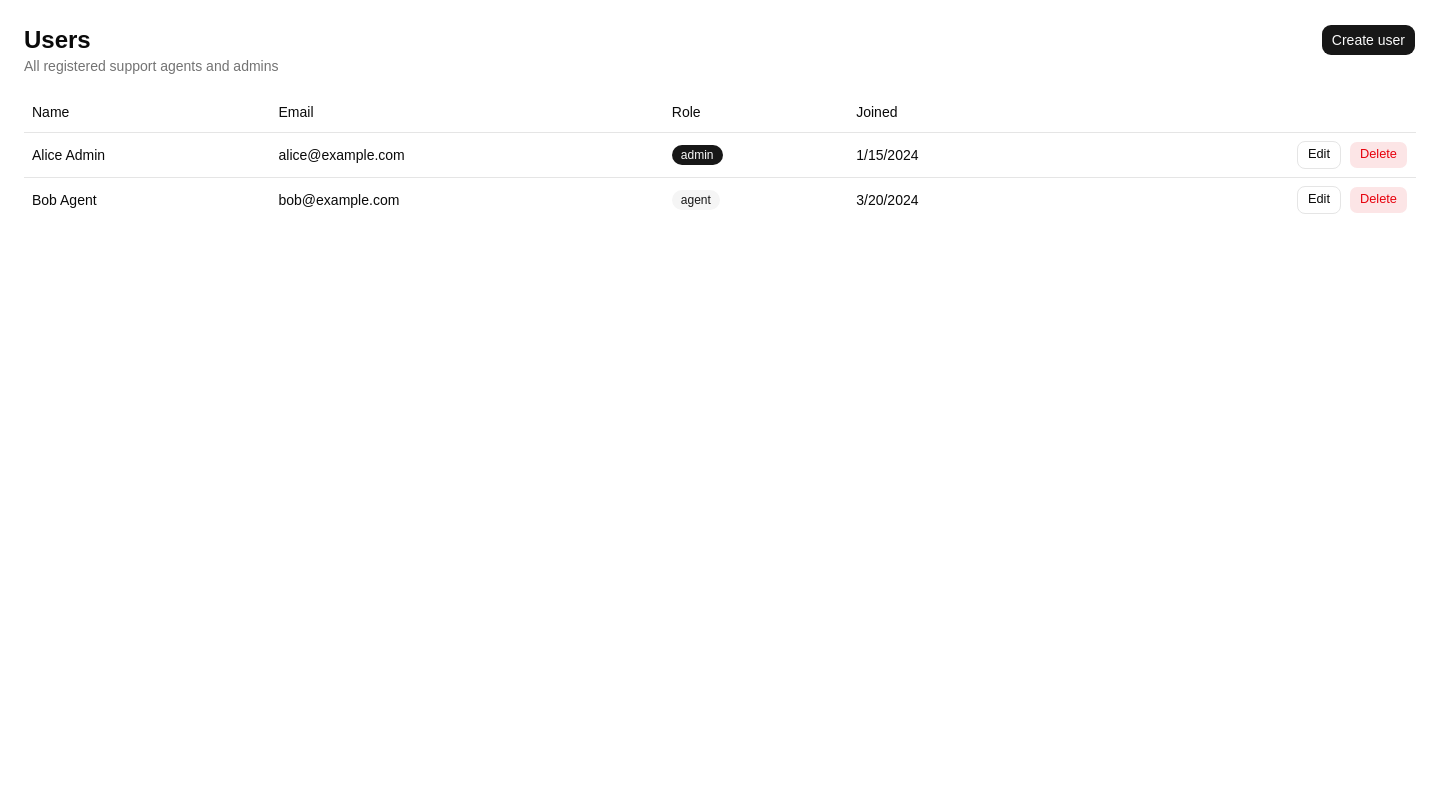
it: UsersPage › opens the Edit user dialog pre-populated when Edit is clicked
Expected: the table with test id "users-table" is shown, [24,92,1416,222]
What coordinates should you click on to do the following:
click the button "Edit" in the row of "Alice Admin"
I would click on:
 (1319, 154)
Its box is [1297,140,1341,168].
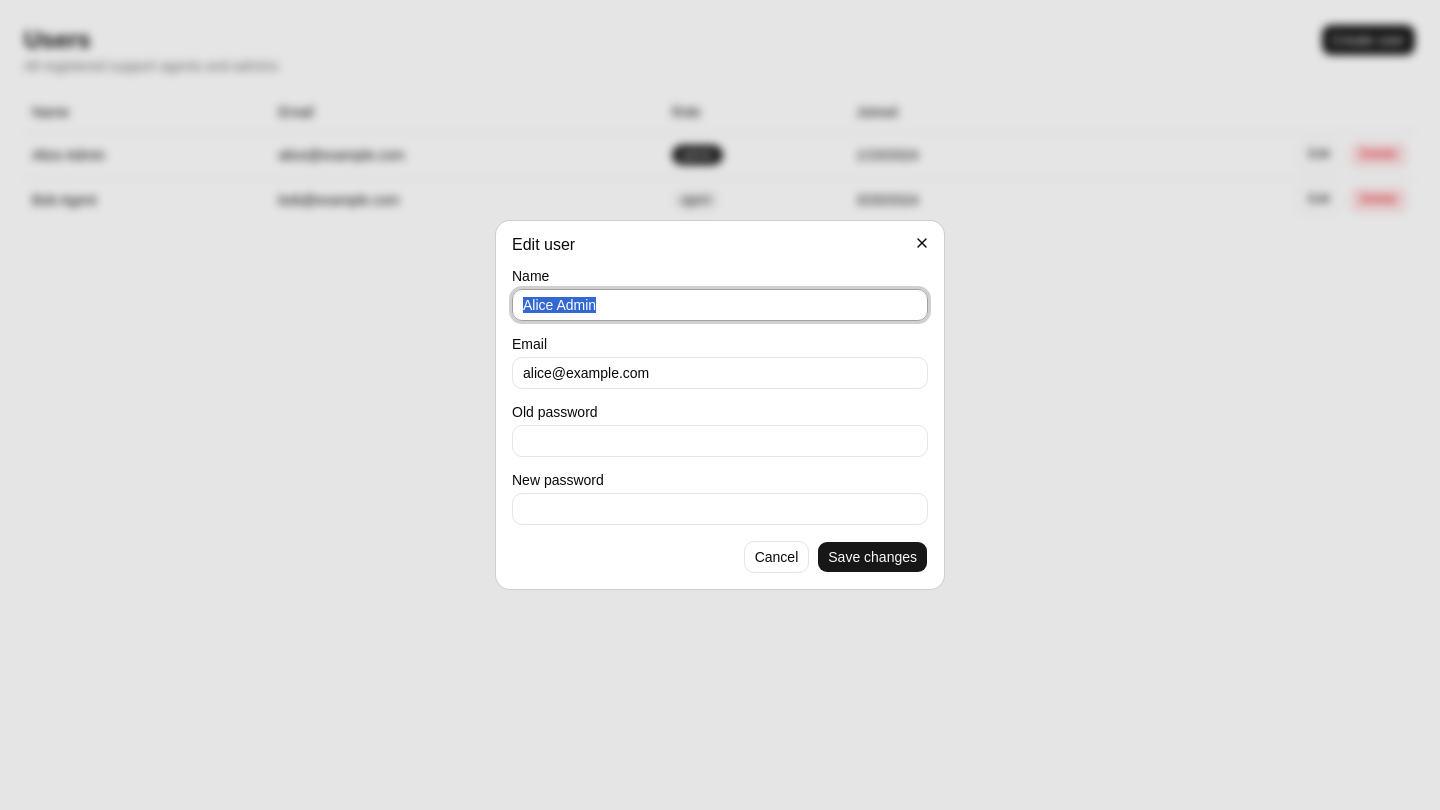
Expected: the dialog "Edit user" is shown, [496,221,944,589]
Expected: the field labelled "Name" holds "Alice Admin", [512,289,928,321]
